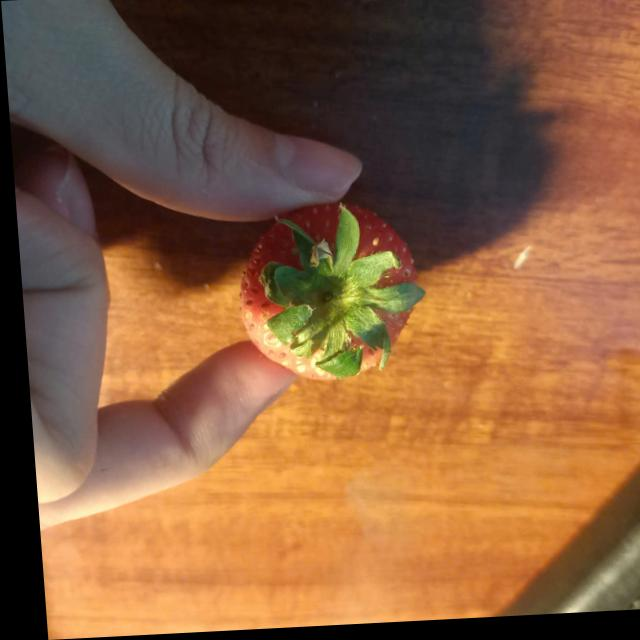DauTay: (228, 204, 423, 388)
